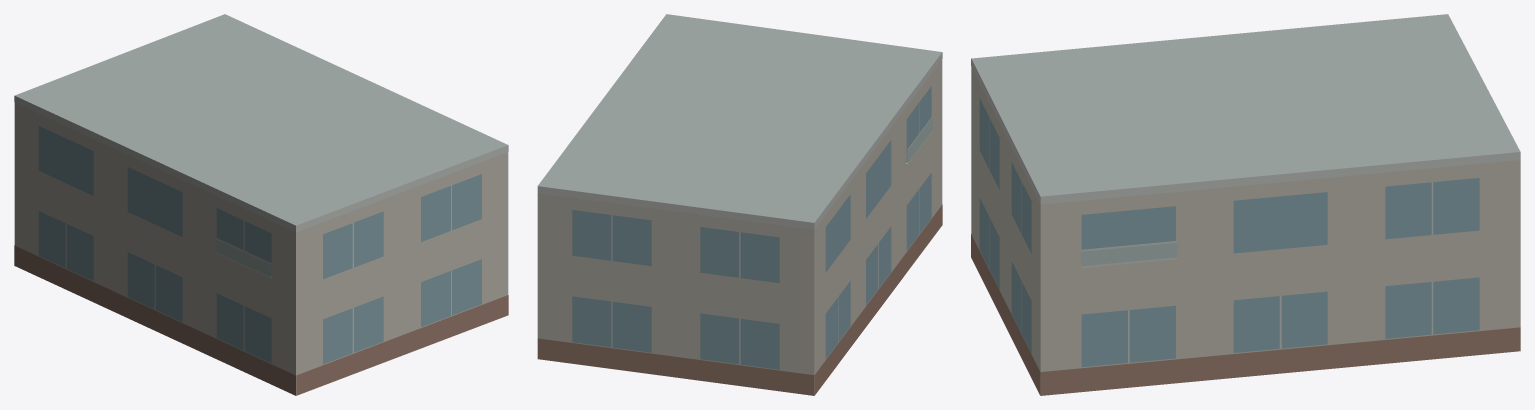
Rendered from survey-upis-32981000.glb.
3 renders of one model, left to right at view 1: azimuth 30°, elevation 25°; view 2: azimuth 150°, elevation 25°; view 3: azimuth 270°, elevation 25°, orthographic. The views are drawn at different scales.
Parts seen in each view (by area): view 1: survey-upis-32981000.tmp; view 2: survey-upis-32981000.tmp; view 3: survey-upis-32981000.tmp.
Boxes of the visible parts, x1=… form: survey-upis-32981000.tmp: x1=14, y1=14, x2=508, y2=395; survey-upis-32981000.tmp: x1=537, y1=14, x2=942, y2=395; survey-upis-32981000.tmp: x1=971, y1=14, x2=1520, y2=395.
Bounding box in the file's own units: 12.01 × 6.1 × 15.26.
